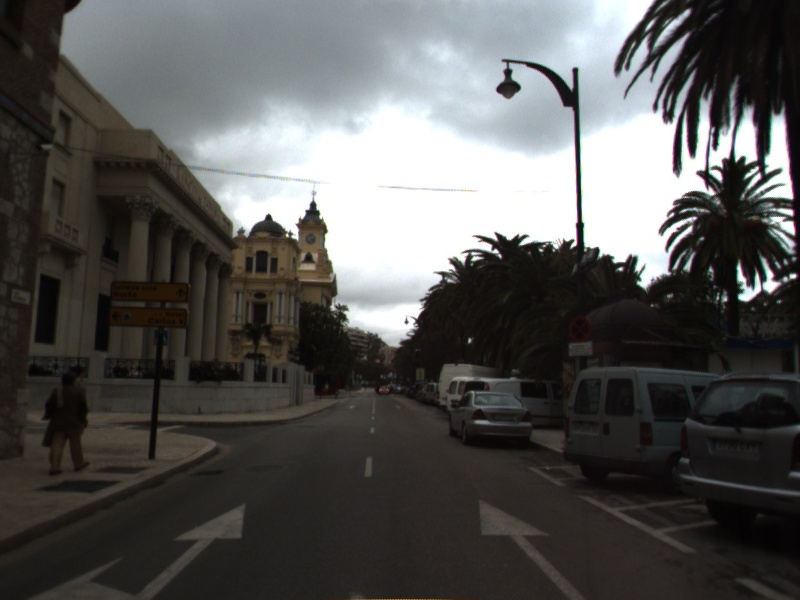STRAIGHT: (476, 495, 589, 600)
STRAIGHT_LEFT: (27, 498, 249, 600)
